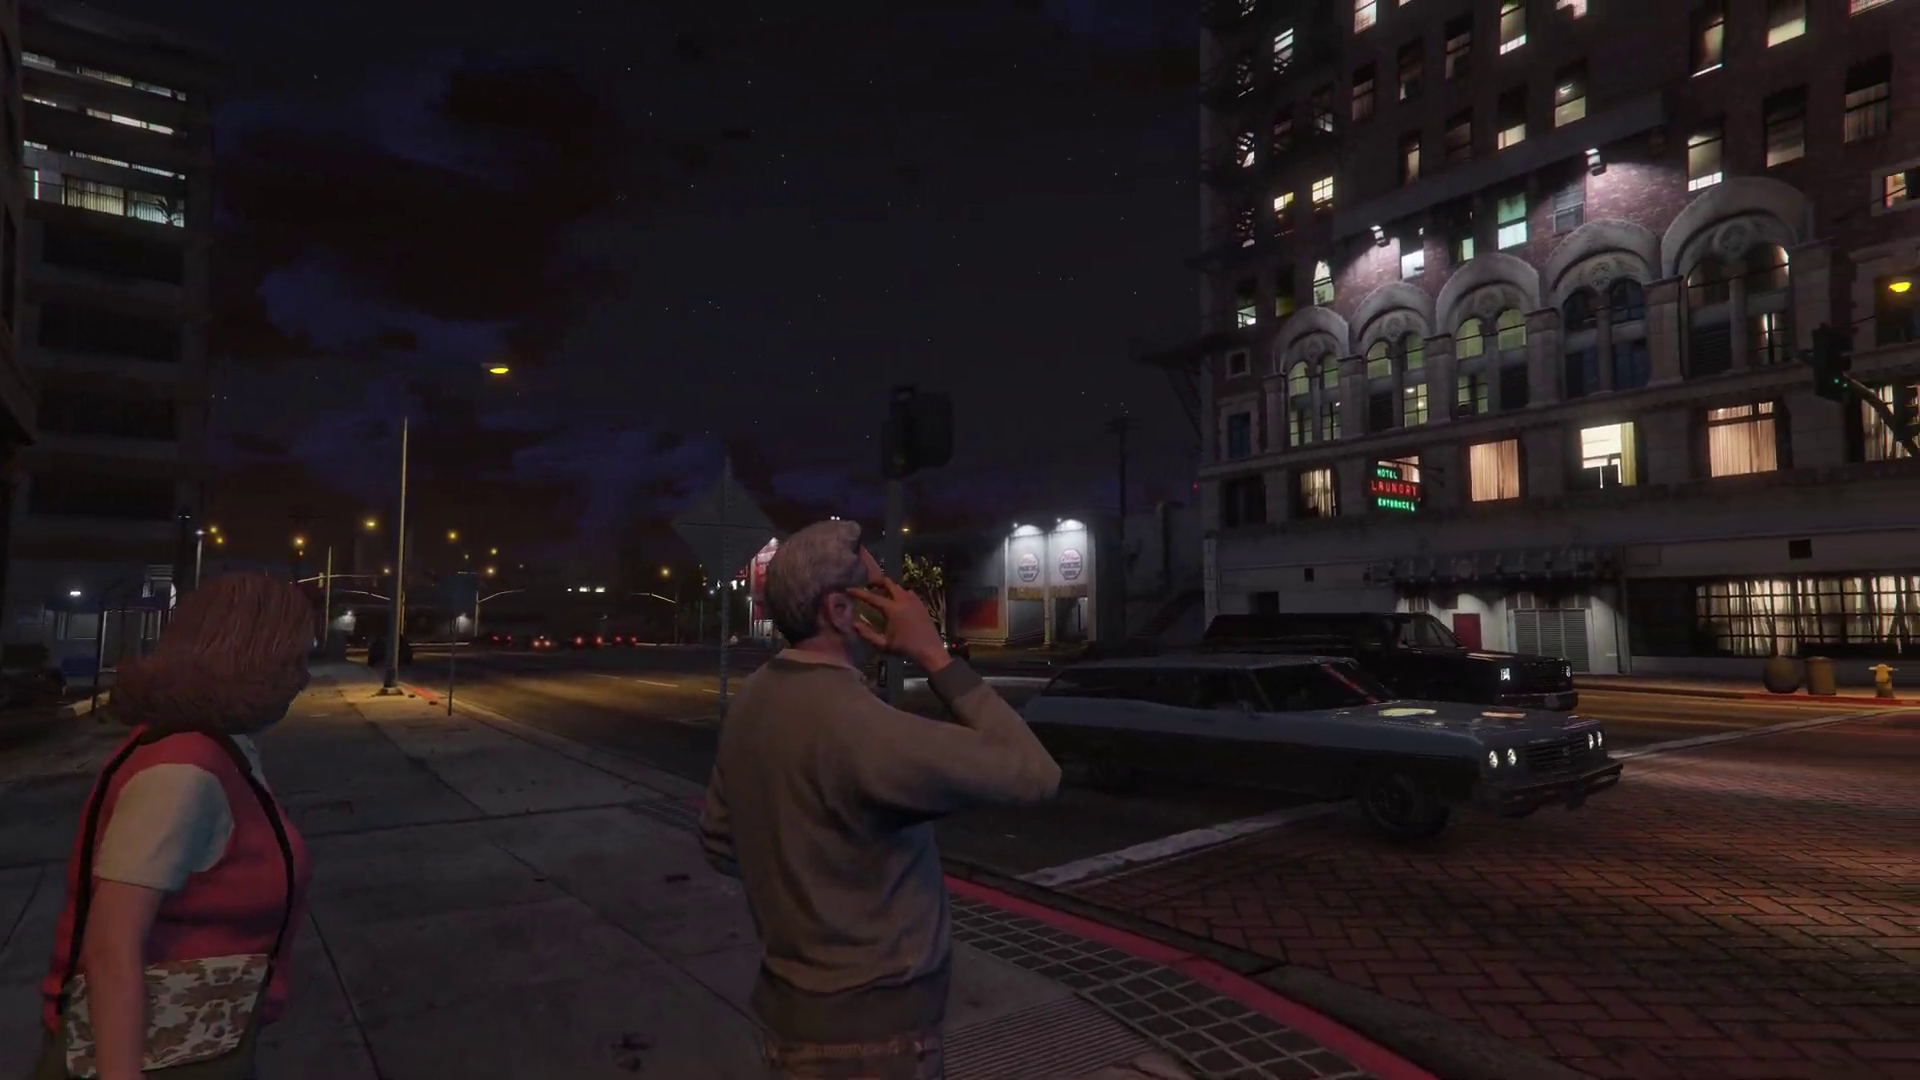car: (1022, 661, 1626, 829), (1215, 613, 1584, 713)
person: (701, 517, 1067, 1080), (38, 574, 320, 1080)
traffic light: (1814, 324, 1856, 406)
